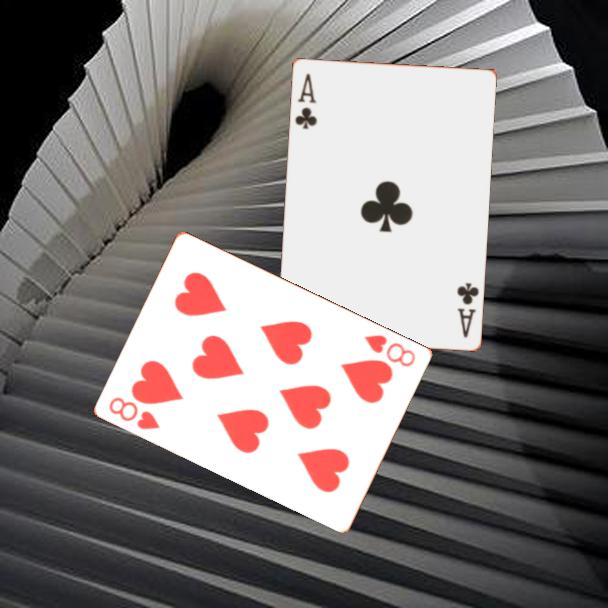c01: (291, 70, 319, 132), (453, 279, 481, 340)
h08: (361, 331, 419, 370), (106, 393, 163, 432)
